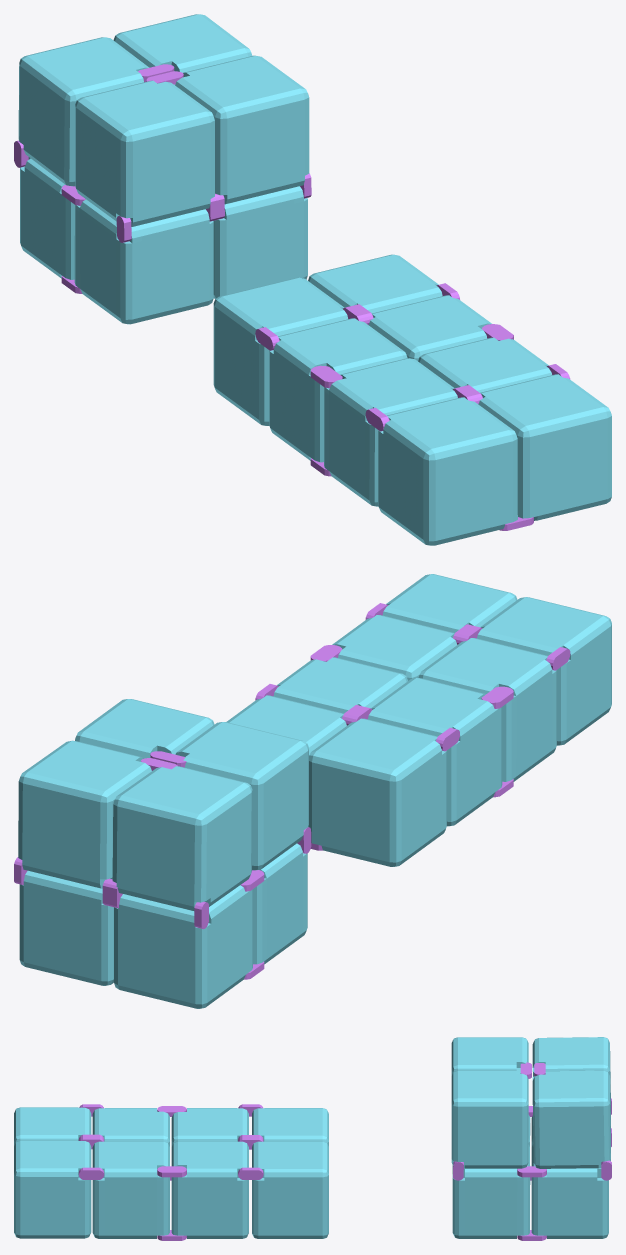
File: Cubos hielo.fbx
The picture shows the model from 3 angles, top to bottom: view 1: azimuth 30°, elevation 25°; view 2: azimuth 150°, elevation 25°; view 3: azimuth 270°, elevation 25°; orthographic projection. The views are drawn at different scales.
Visible parts, largest first — view 1: Cube.001, Cube.002; view 2: Cube.002, Cube.001; view 3: Cube.001, Cube.002.
Part boxes in pixels (box(x1,y1,x2,y2)): Cube.001: box(213, 254, 611, 545); Cube.002: box(14, 14, 311, 324); Cube.002: box(14, 699, 311, 1008); Cube.001: box(226, 574, 611, 866); Cube.001: box(14, 1104, 328, 1240); Cube.002: box(451, 1037, 611, 1240).
Bounding box in the file's own units: 275 × 271 × 1041.
